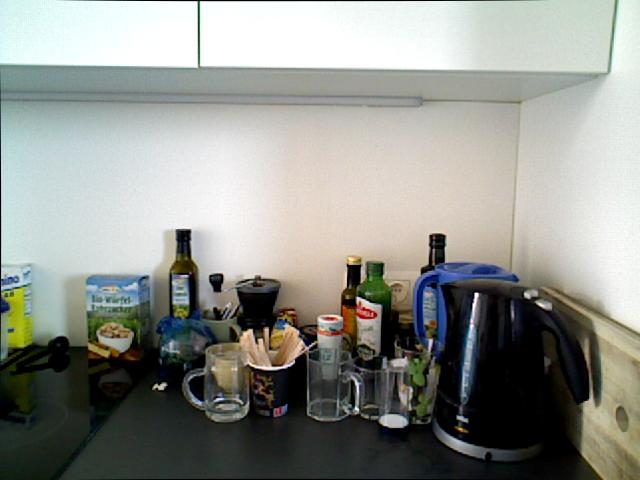bench: (414, 232, 446, 351), (355, 260, 391, 360), (168, 228, 199, 320), (340, 255, 362, 354)
bird: (95, 324, 134, 353)
handbag: (181, 342, 250, 423), (305, 348, 361, 422), (247, 349, 295, 418), (349, 350, 393, 422), (375, 354, 413, 430)
